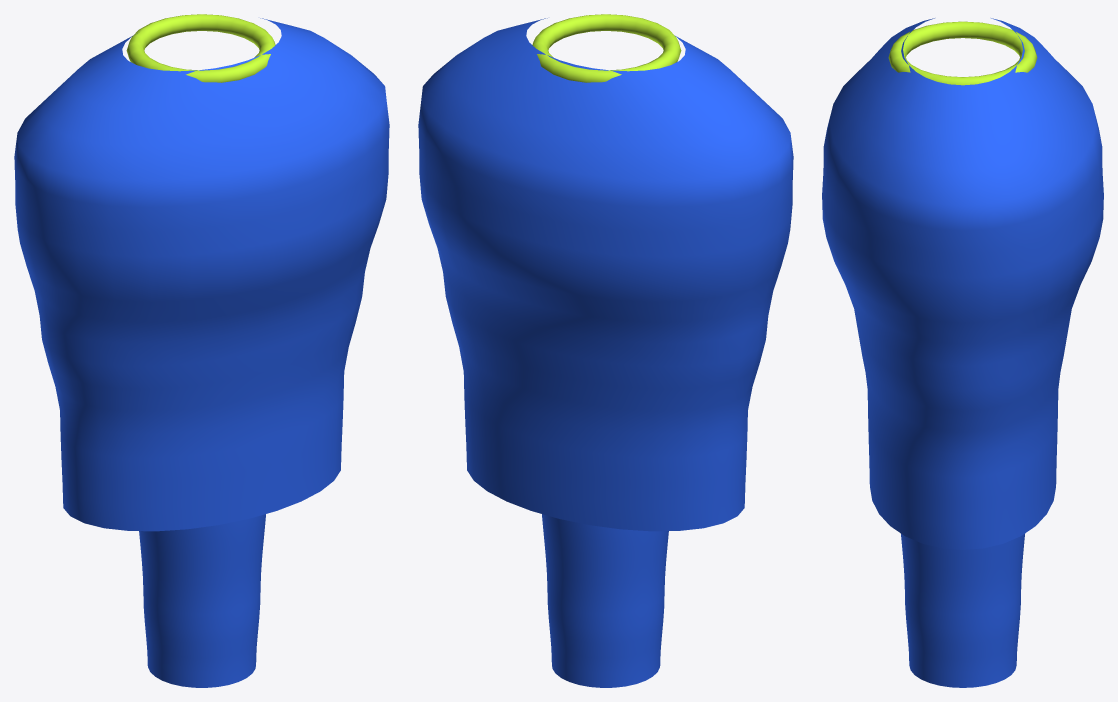
Rendered from top_longsleeve_male.glb.
The picture shows the model from 3 angles, left to right: view 1: azimuth 30°, elevation 25°; view 2: azimuth 150°, elevation 25°; view 3: azimuth 270°, elevation 25°; orthographic projection.
Parts seen in each view (by area): view 1: shirt, sleeve, collar; view 2: shirt, sleeve, collar; view 3: shirt, sleeve, collar.
Part boxes in pixels (x1,y1,x2,y2): shirt: (14,18,389,531); sleeve: (139,514,265,687); collar: (126,14,275,82); shirt: (418,18,793,531); sleeve: (542,514,668,687); collar: (532,14,681,82); shirt: (822,18,1103,549); sleeve: (901,534,1024,687); collar: (888,21,1037,85).
Size of the model in its own units: 0.3634 by 0.62 by 0.2574.
